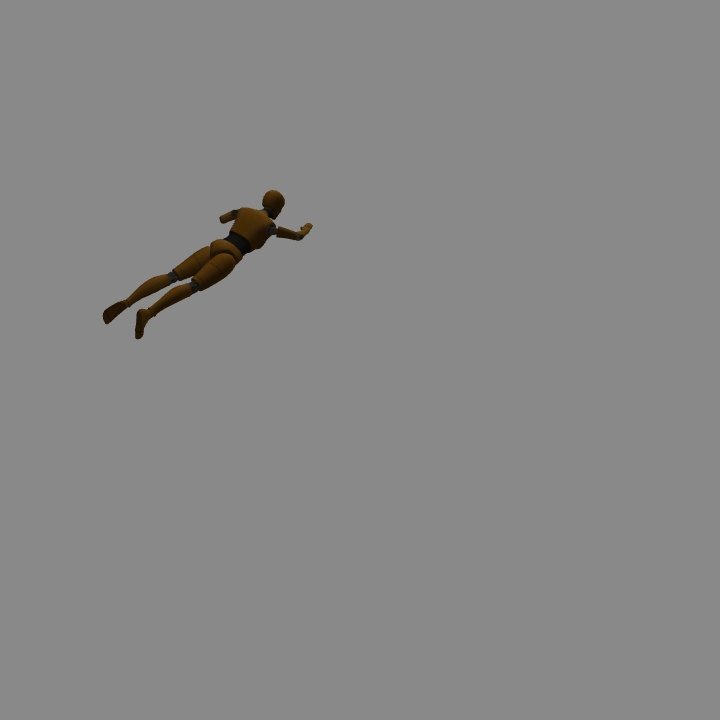victim: (104, 187, 285, 338)
